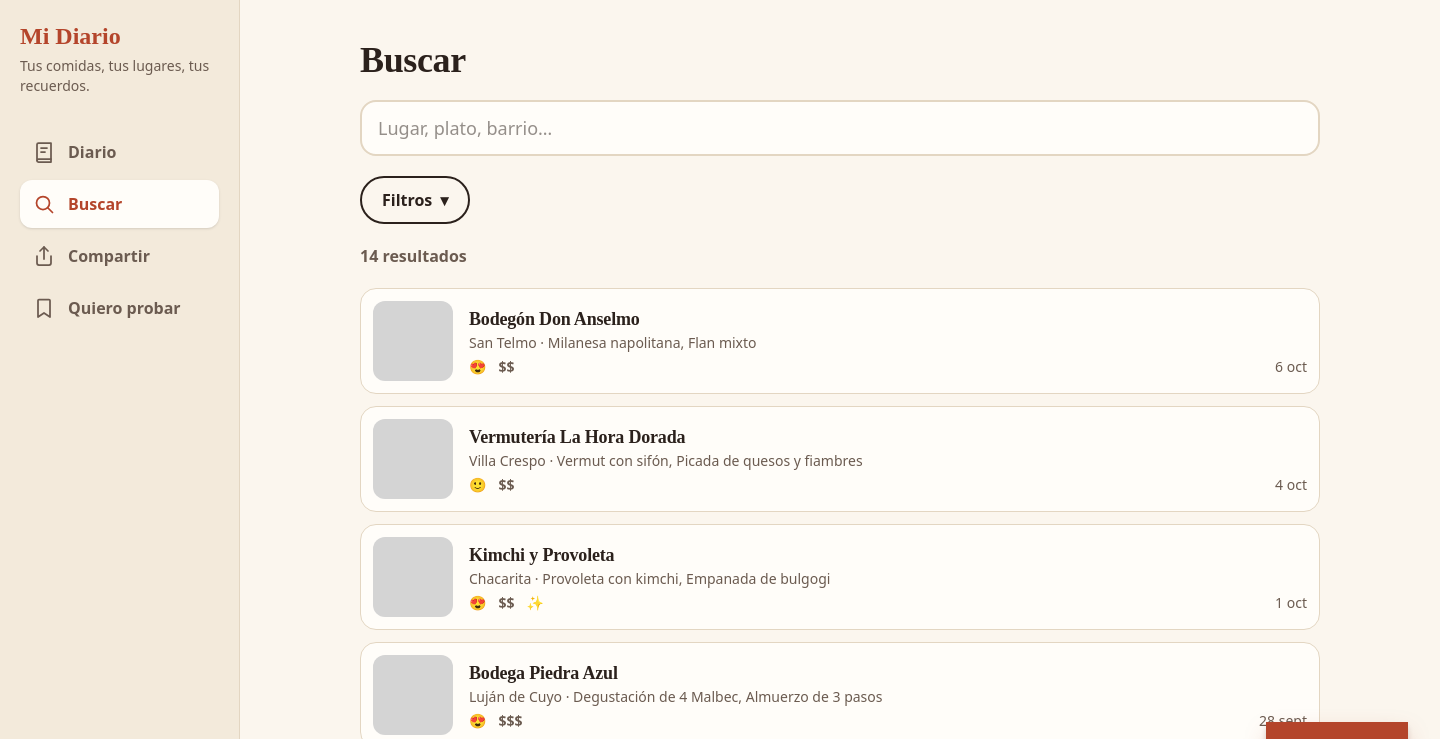
Scenario: Search › finds entries by text, ignoring accents and case
This screenshot has width=1440, height=739.
Step 1. Type "BODEGON" into the search field named "Buscar en tu diario" → [840, 128], box [360,100,1320,156]
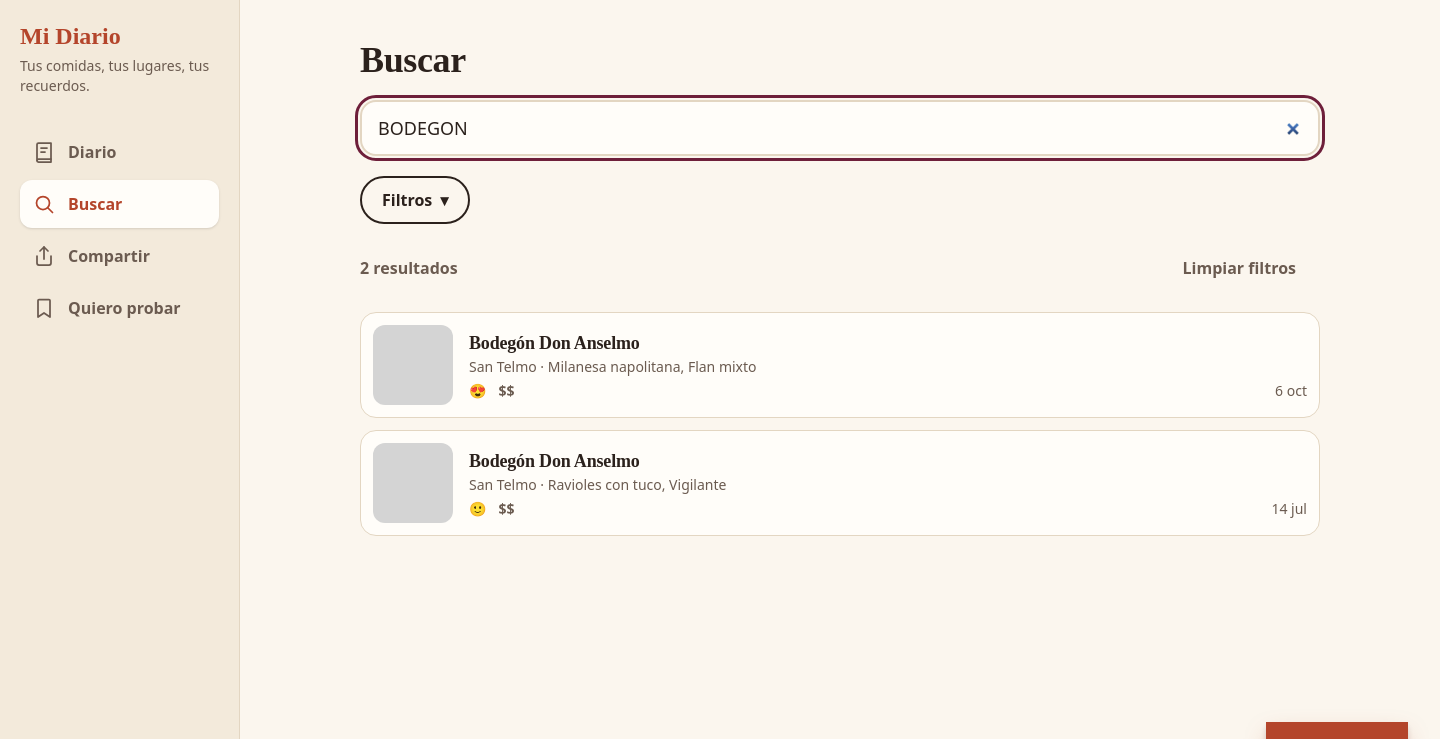
Expected: the text "2 resultados" is shown, [360,256,458,280]
